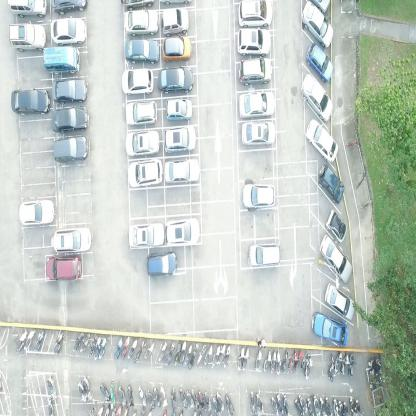car: (304, 117, 340, 165), (301, 72, 333, 123), (319, 235, 353, 282), (301, 0, 334, 47), (310, 310, 348, 348), (305, 42, 334, 83), (324, 282, 355, 320), (50, 225, 91, 253), (50, 15, 87, 46), (42, 46, 81, 75), (9, 22, 46, 52), (238, 89, 276, 118), (11, 87, 49, 116), (317, 163, 344, 203), (236, 26, 272, 56), (237, 0, 273, 30), (124, 35, 160, 64), (18, 198, 55, 226), (165, 217, 200, 246), (158, 64, 194, 92), (127, 159, 163, 187), (51, 76, 87, 104), (122, 8, 159, 35), (51, 106, 89, 132), (238, 57, 272, 86), (240, 119, 275, 147), (127, 221, 164, 247), (242, 181, 275, 210), (125, 129, 160, 156), (164, 158, 200, 184), (46, 255, 82, 281), (52, 136, 88, 162), (120, 68, 154, 95), (164, 124, 196, 152), (247, 242, 280, 268), (161, 35, 192, 62), (145, 251, 178, 276), (124, 100, 157, 125), (324, 208, 348, 242), (161, 5, 189, 34), (6, 0, 47, 18), (50, 0, 89, 18), (165, 98, 193, 120)
